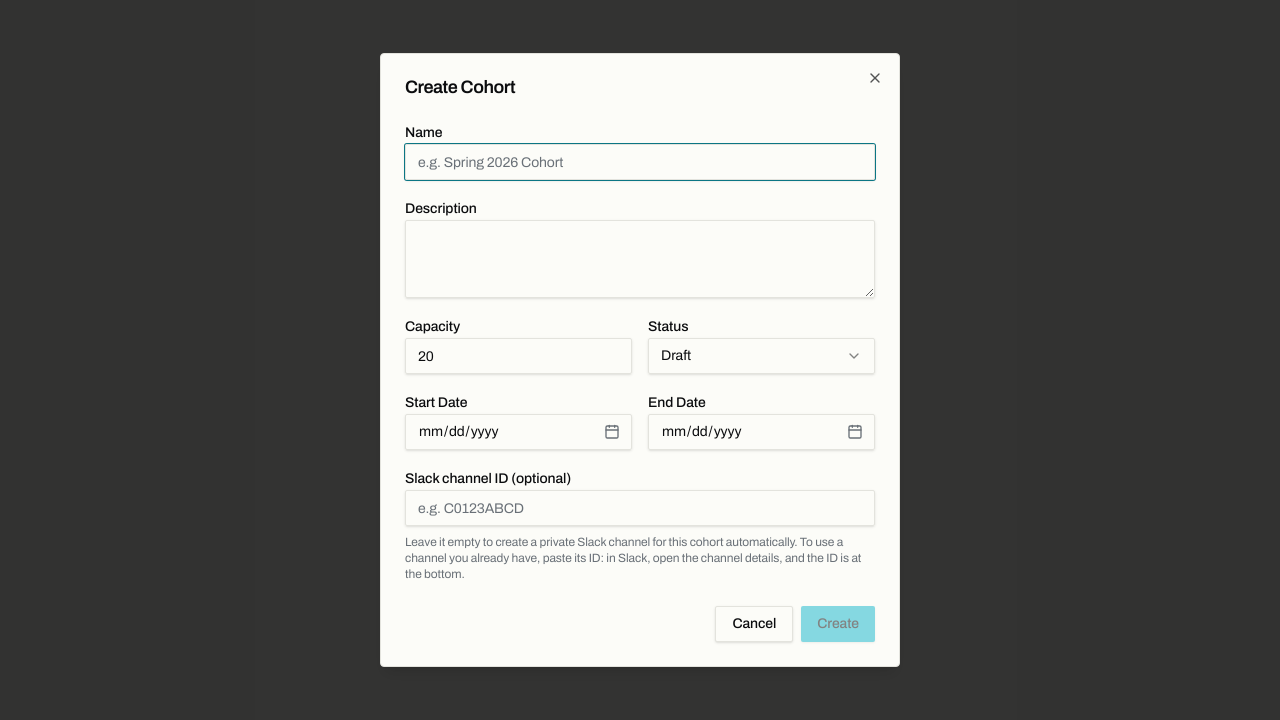
Test: cohort FormDialog › disables create submit until a name is entered
Expected: the heading "Create Cohort" is shown, [405,77,515,97]
Expected: the button "Create" is disabled, [801,606,875,642]
Type "Summer" into the field with placeholder "e.g. Spring 2026 Cohort".
click(640, 162); type("Summer")  # box [405,144,875,180]
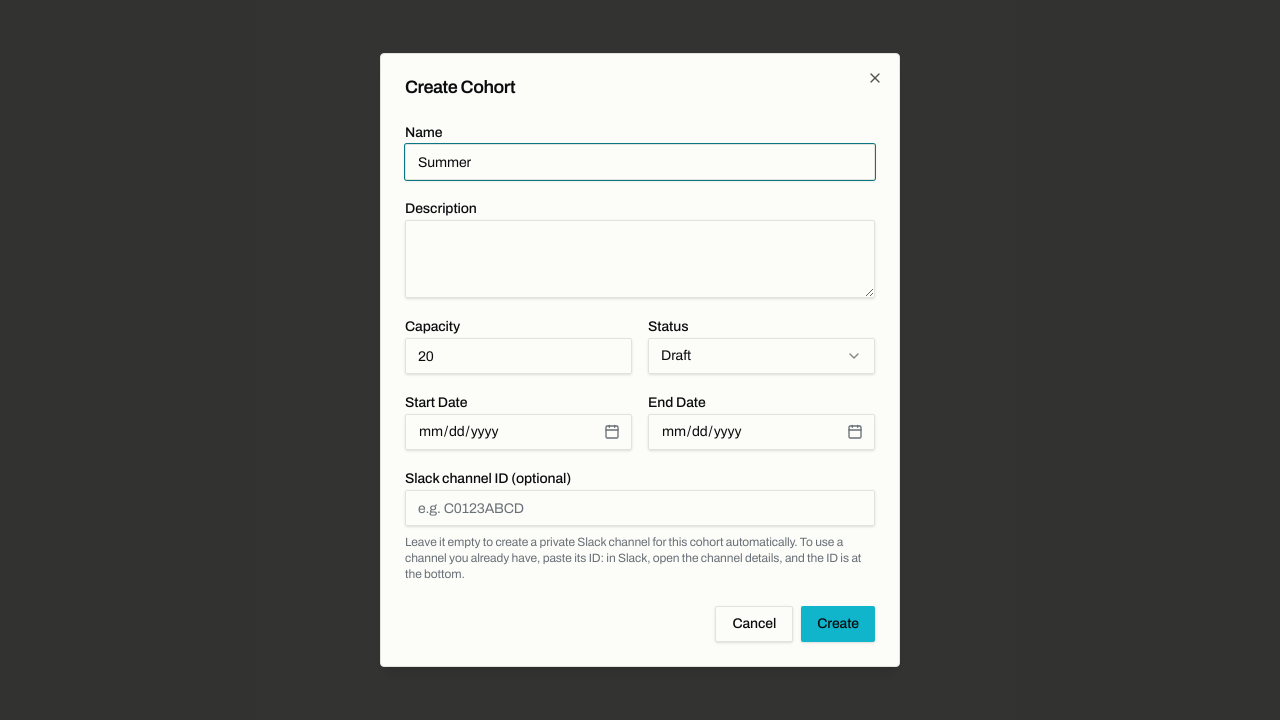
Now the button "Create" is enabled, box [801,606,875,642]
